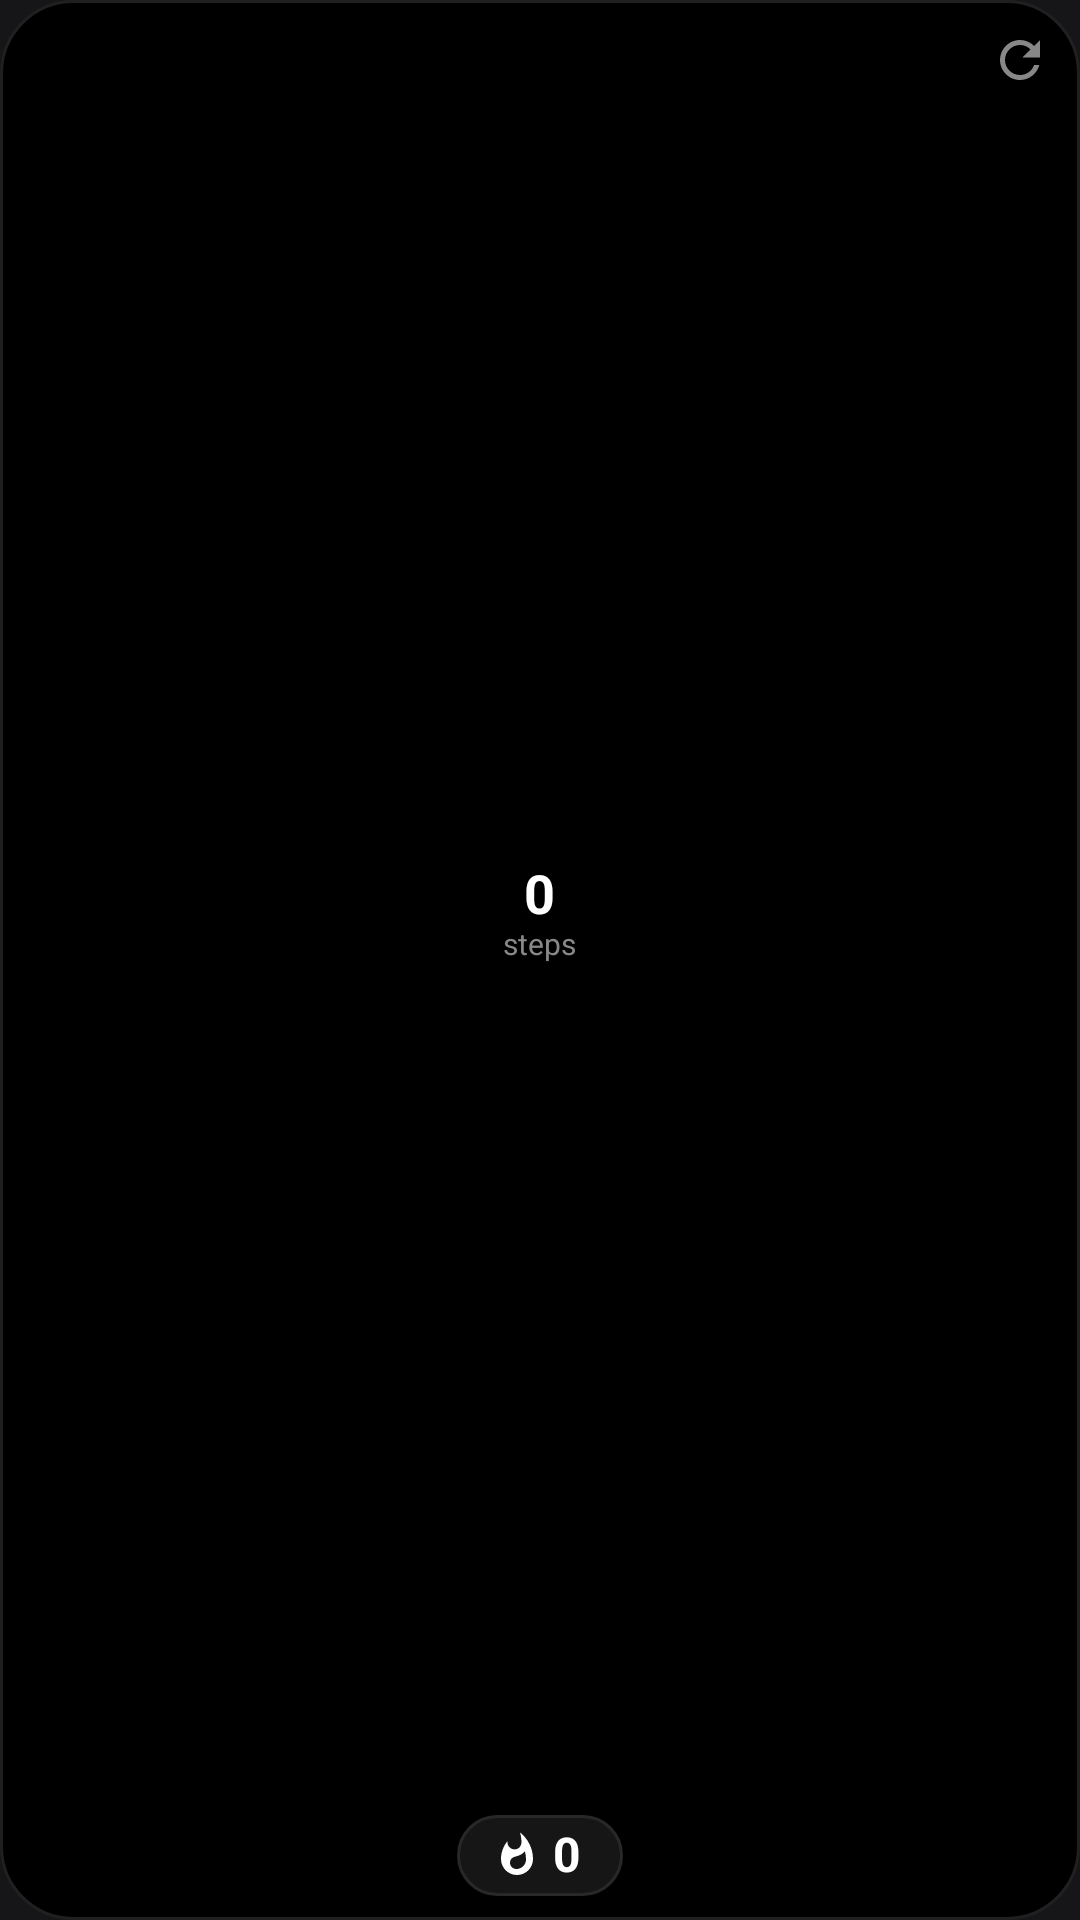

Named icons in this screenshot (1080x1920) and their centers, [x,y]:
Calories Burned: [517,1853]
Refresh Steps: [1020,60]
